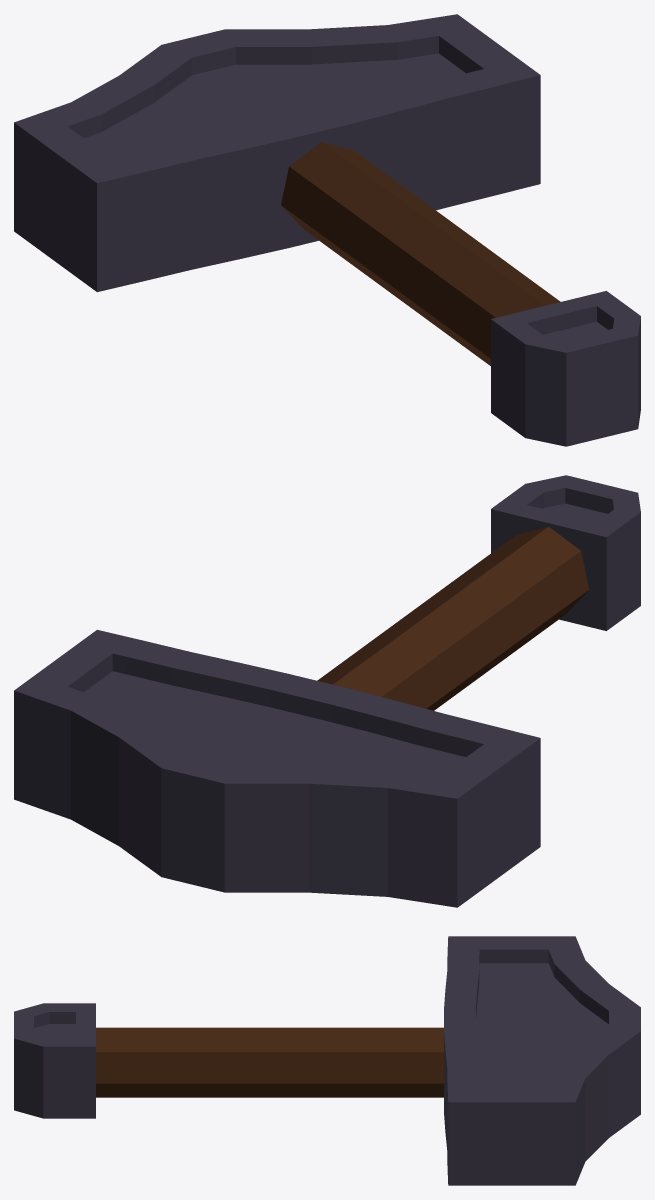
Rendered from mjölnir.fbx.
3 views of the same model, one above another, from view 1: azimuth 30°, elevation 25°; view 2: azimuth 150°, elevation 25°; view 3: azimuth 270°, elevation 25° (orthographic). The views are drawn at different scales.
Parts seen in each view (by area): view 1: Cube.001; view 2: Cube.001; view 3: Cube.001.
Part boxes in pixels (<box>): Cube.001: <box>14,14,640,446</box>; Cube.001: <box>14,475,640,907</box>; Cube.001: <box>14,936,640,1185</box>.
Bounding box in the file's own units: 260 × 61.02 × 415.
